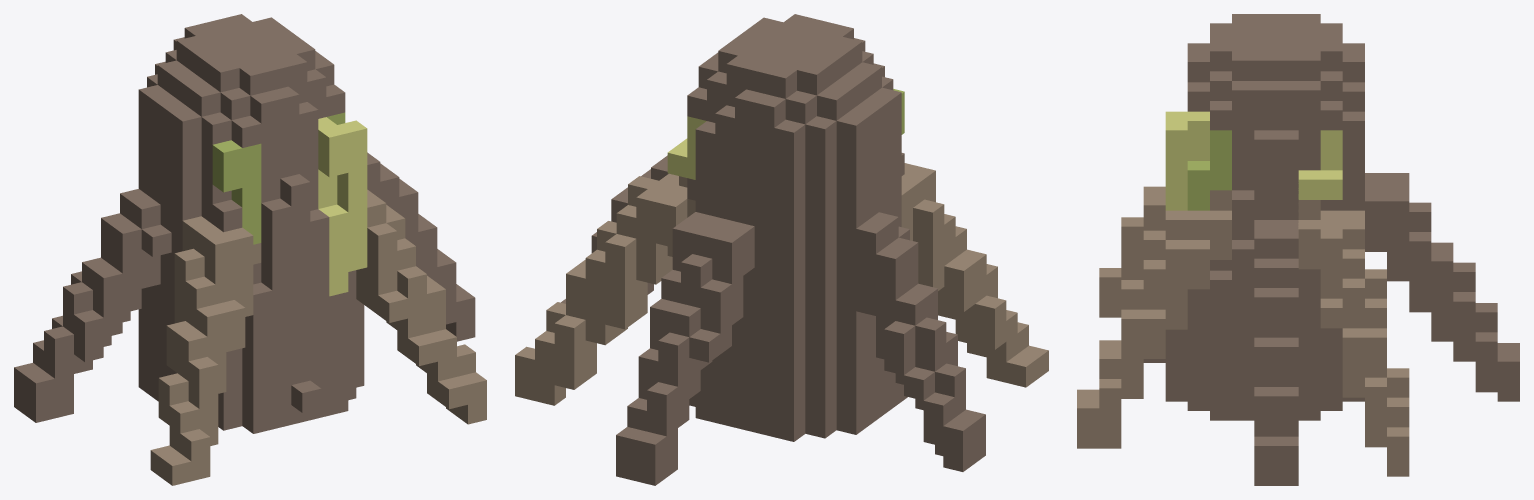
File: mossy_stump.glb
The picture shows the model from 3 angles, left to right: view 1: azimuth 30°, elevation 25°; view 2: azimuth 150°, elevation 25°; view 3: azimuth 270°, elevation 25°; orthographic projection. The views are drawn at different scales.
Bounding box in the file's own units: 0.9167 × 0.7083 × 0.8333.
